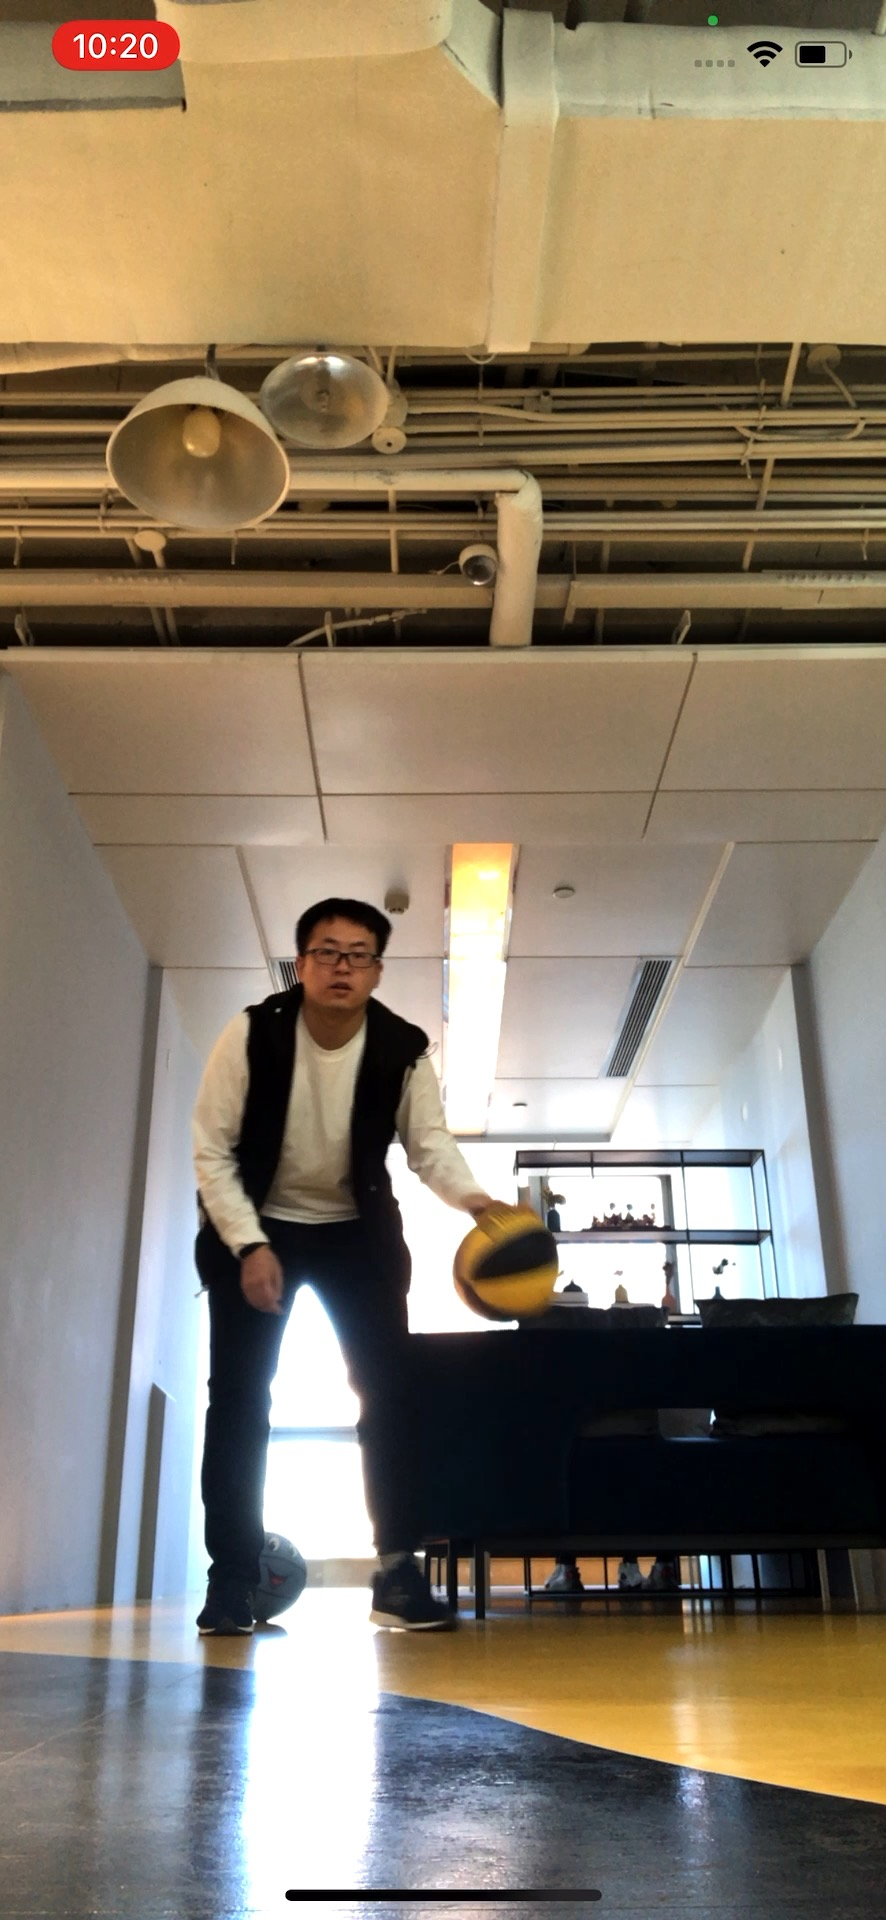ball: (453, 1213, 563, 1321), (251, 1537, 306, 1614)
